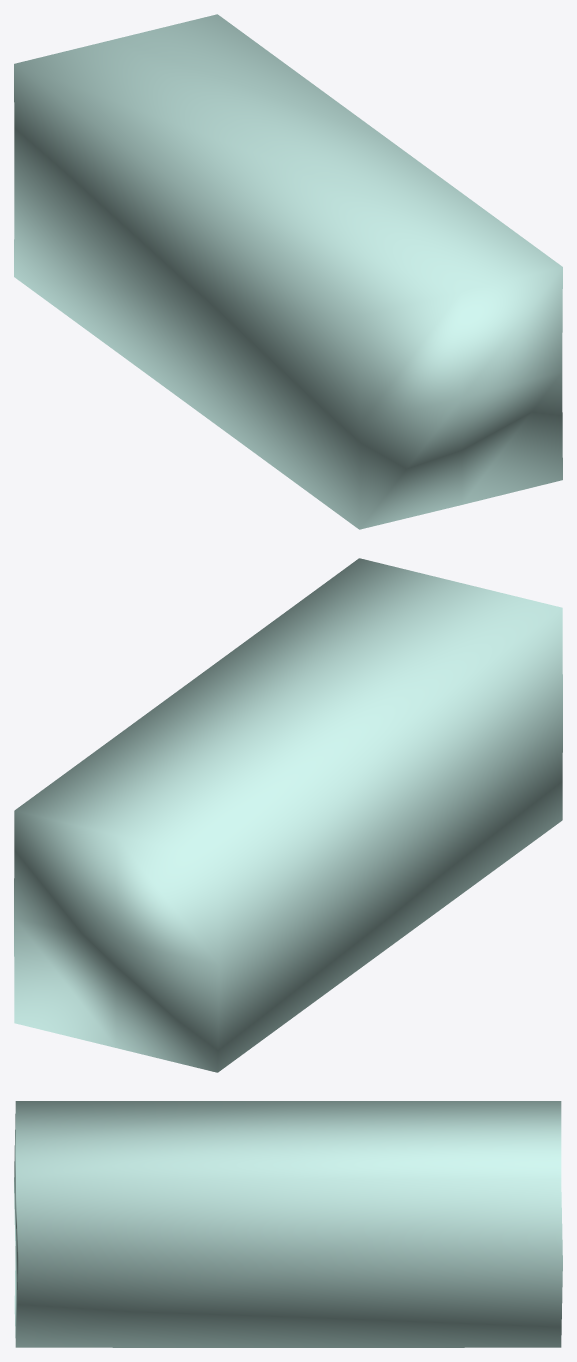
File: character snap back.fbx
3 views of the same model, one above another, from view 1: azimuth 30°, elevation 25°; view 2: azimuth 150°, elevation 25°; view 3: azimuth 270°, elevation 25° (orthographic). The views are drawn at different scales.
Parts seen in each view (by area): view 1: Box001.001; view 2: Box001.001; view 3: Box001.001.
Boxes of the visible parts, <box> form: Box001.001: <box>14,14,562,529</box>; Box001.001: <box>14,558,562,1072</box>; Box001.001: <box>14,1101,562,1347</box>.
Bounding box in the file's own units: 202 × 200 × 591.
